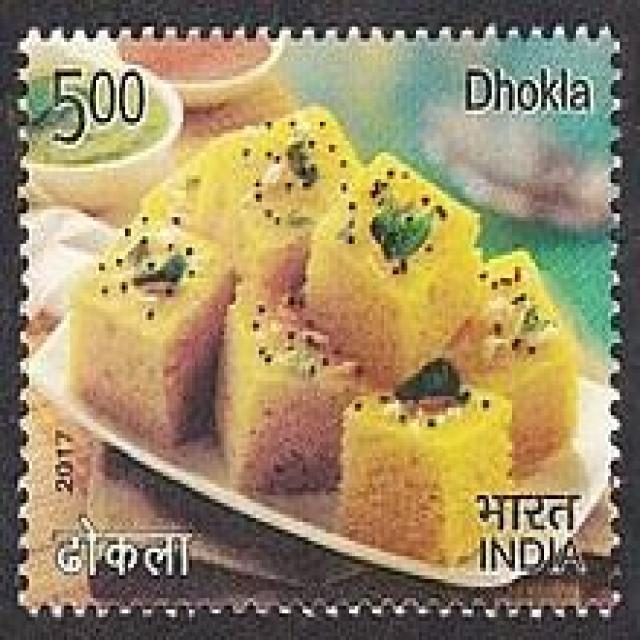DHOKLA: (67, 107, 582, 579)
